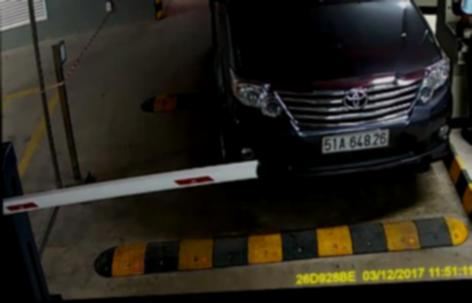License_Plate: (317, 126, 393, 160)
